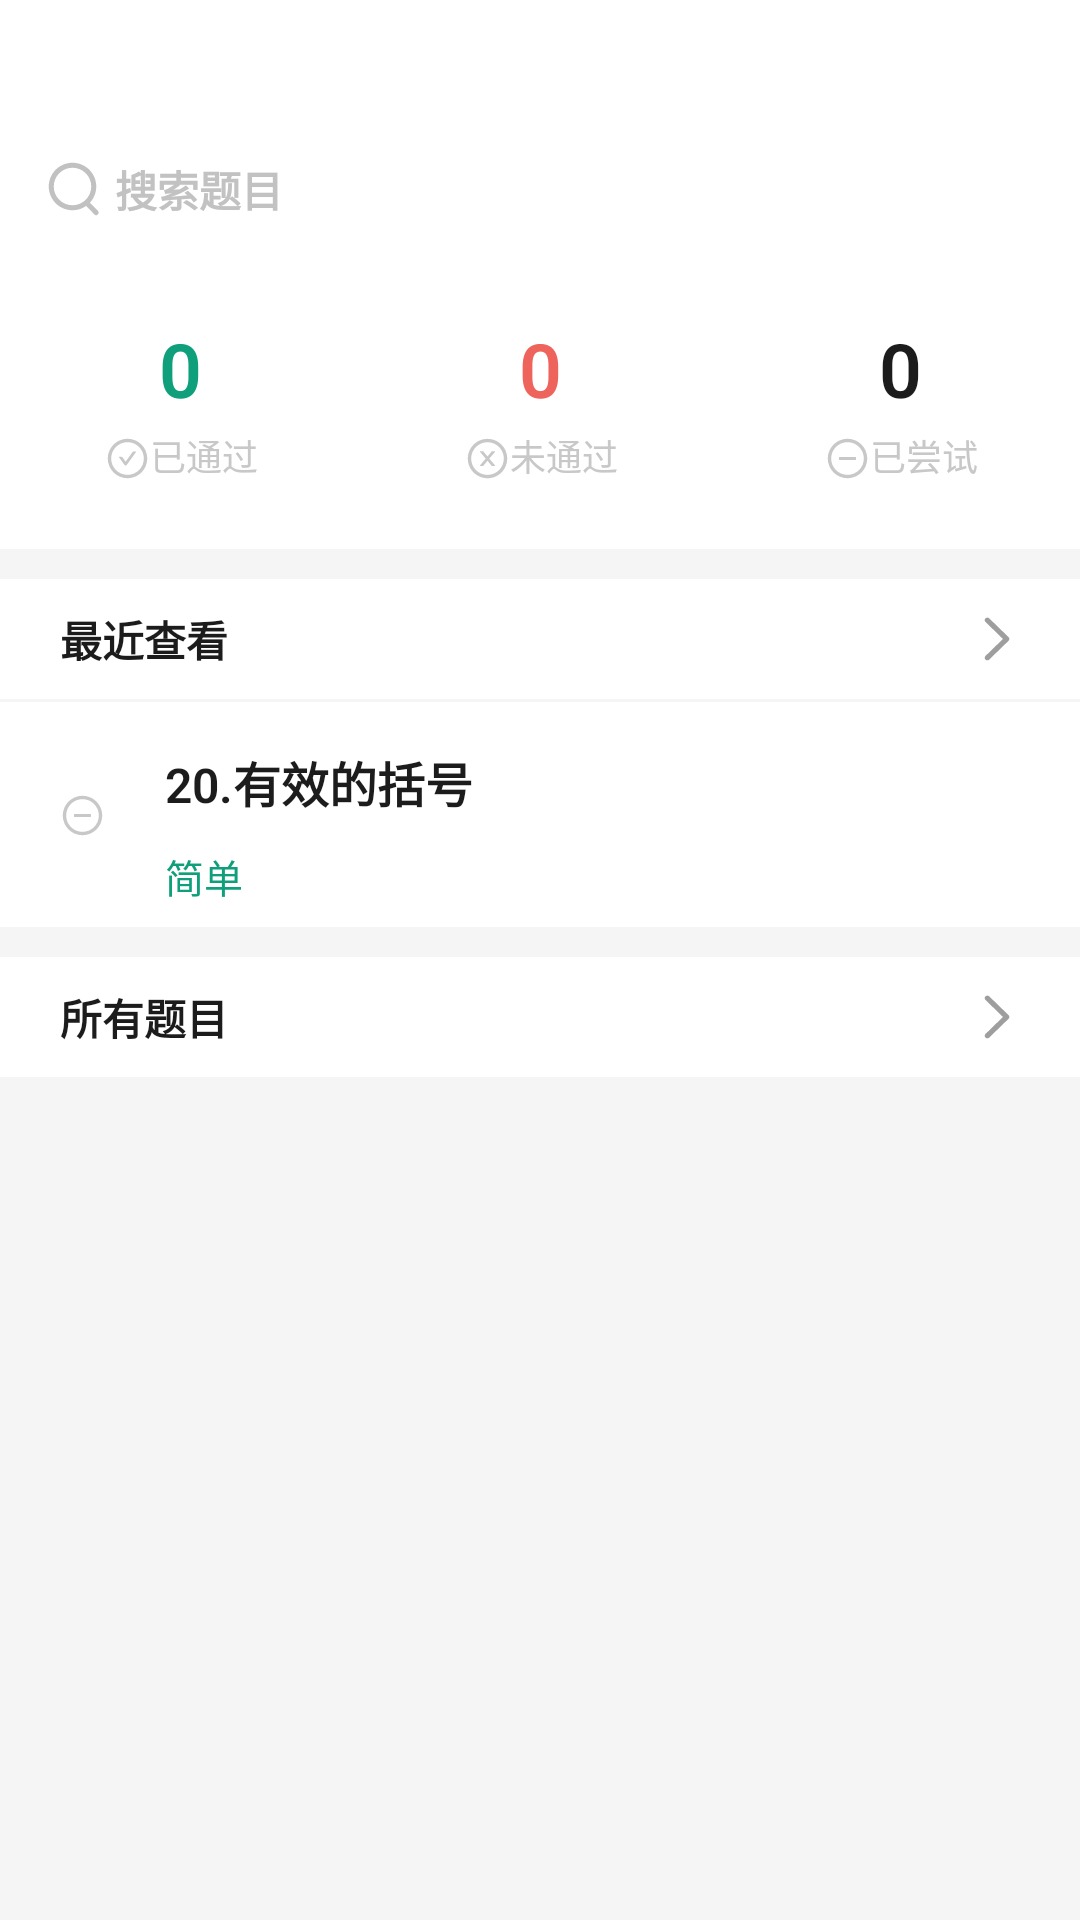

Named icons in this screenshot (1080px×1920px) and their bounding boxes, region(x1, y1, x2, y2):
minus circle: region(63, 796, 102, 835)
next: region(985, 617, 1009, 660), region(985, 995, 1009, 1038)
